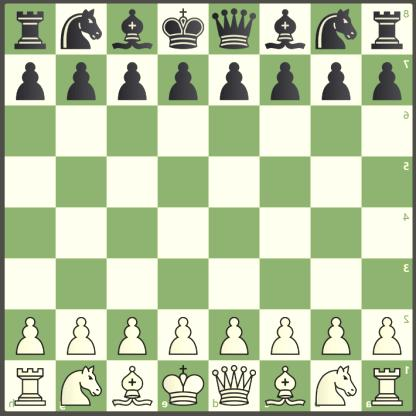black-bishop: (264, 4, 308, 53), (111, 4, 153, 50)
black-king: (161, 6, 205, 51)
black-knight: (312, 4, 358, 53), (57, 6, 104, 52)
black-pawn: (217, 59, 252, 102), (370, 59, 404, 103), (64, 60, 100, 101), (268, 59, 302, 102), (13, 59, 47, 102), (320, 58, 353, 102), (116, 60, 150, 102), (167, 59, 200, 102)
black-queen: (211, 6, 259, 51)
black-rook: (9, 4, 51, 53), (367, 6, 405, 53)
white-bishop: (111, 362, 153, 407), (266, 363, 306, 409)
white-king: (163, 363, 204, 407)
white-knight: (314, 365, 356, 407), (61, 365, 102, 406)
white-pawn: (60, 311, 99, 358), (214, 312, 252, 357), (163, 312, 201, 357), (112, 312, 148, 357), (267, 314, 303, 358), (11, 314, 46, 357), (370, 313, 402, 356), (319, 314, 351, 357)
white-queen: (208, 364, 259, 408)
white-rook: (12, 365, 47, 408), (370, 363, 403, 406)
